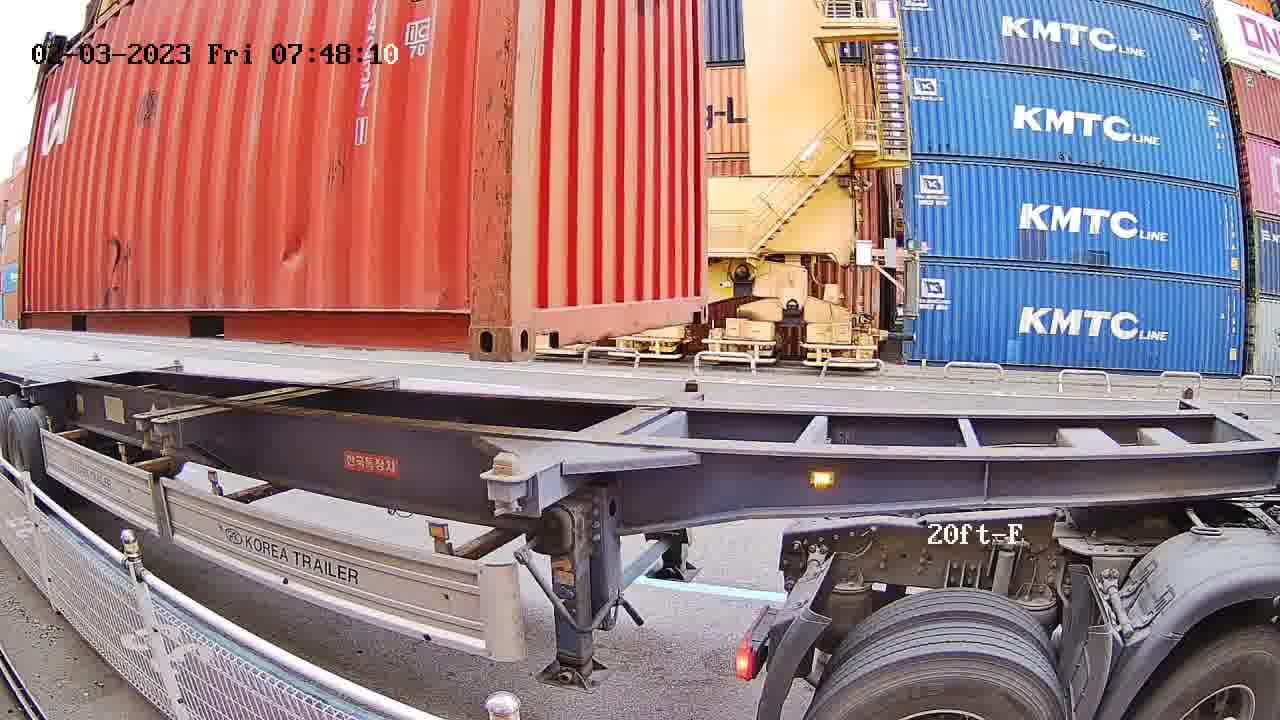Chassis: (480, 389, 704, 482)
Cone: (483, 450, 527, 517), (681, 378, 700, 397)
Hole_L: (510, 286, 573, 358)
Hole_R: (431, 288, 510, 359), (684, 284, 709, 323)
